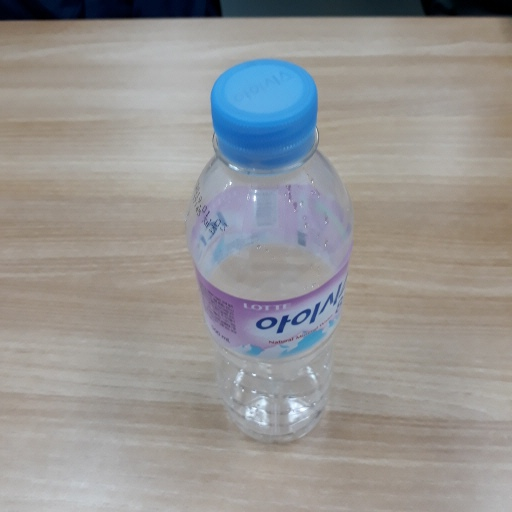Plastic_0: (188, 60, 355, 447)
